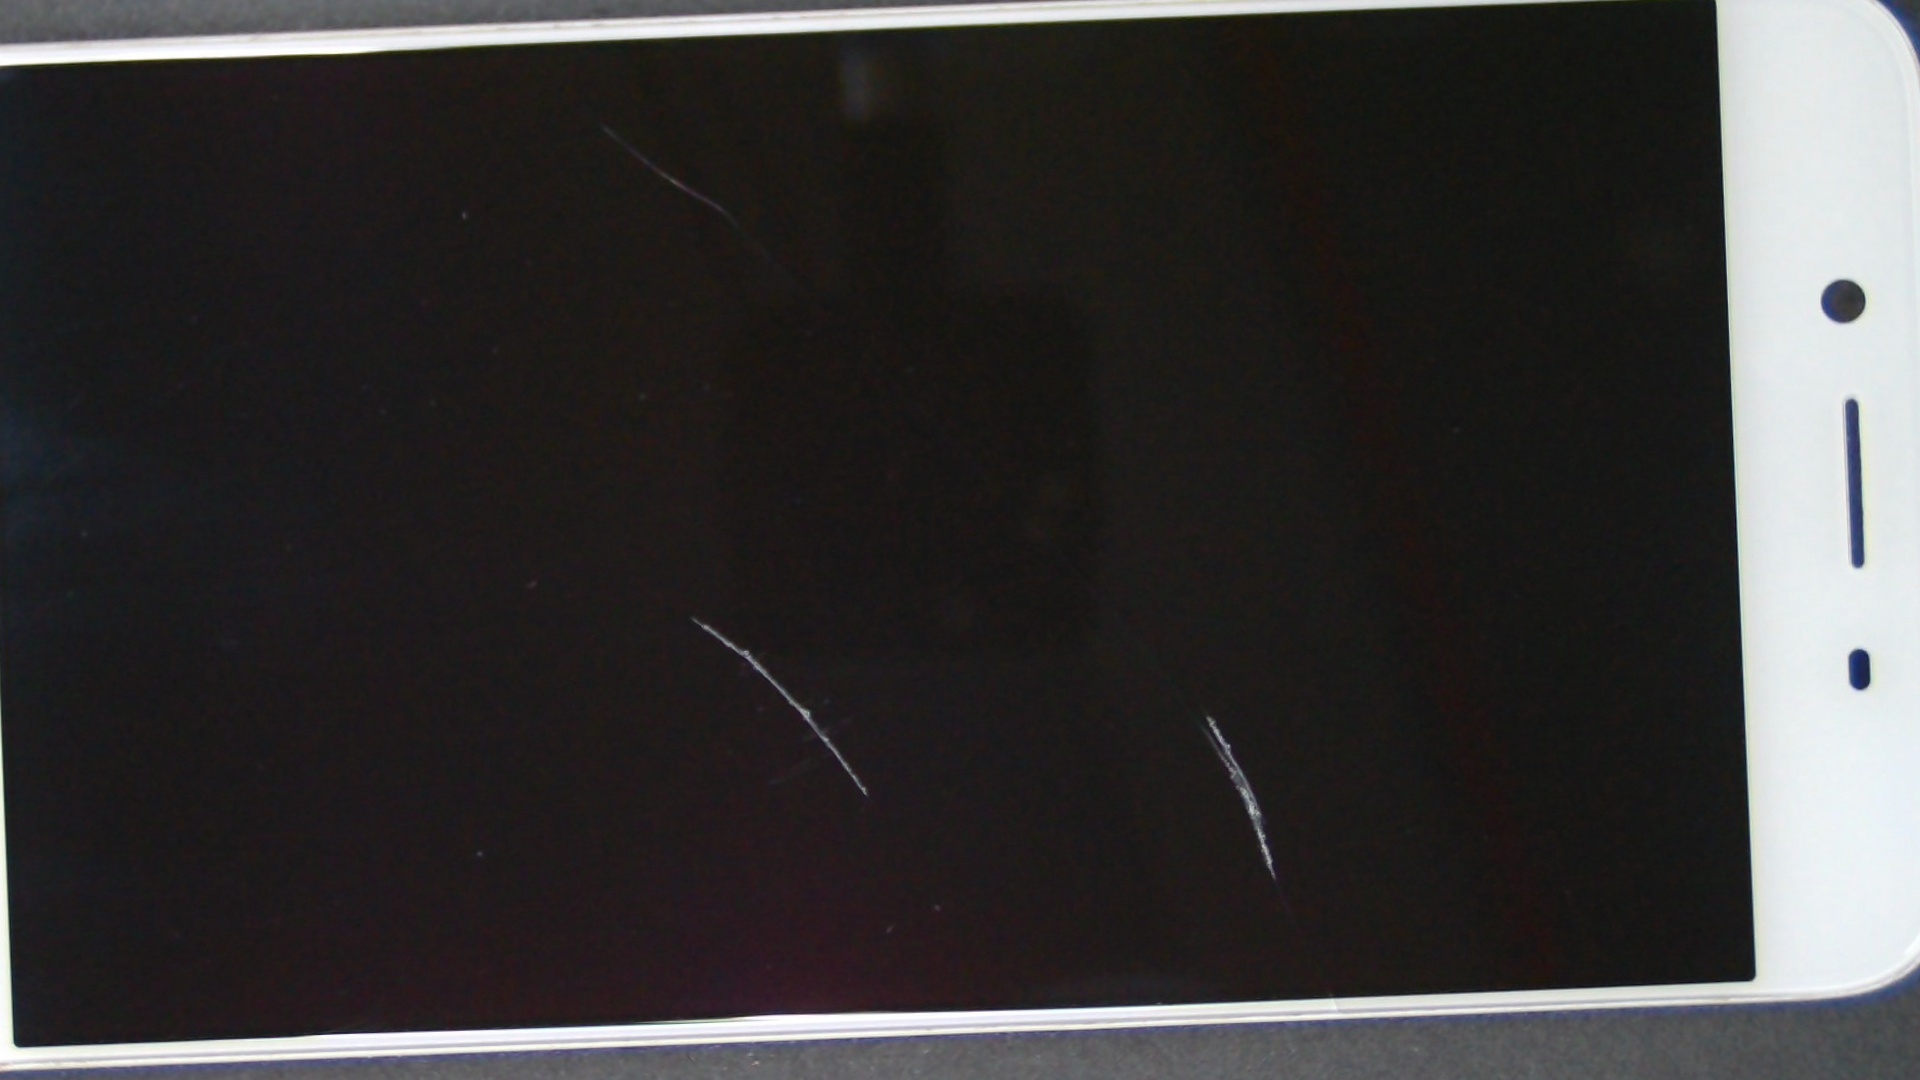oil: (476, 280, 1920, 1080), (216, 249, 1166, 990), (175, 5, 1034, 247)
